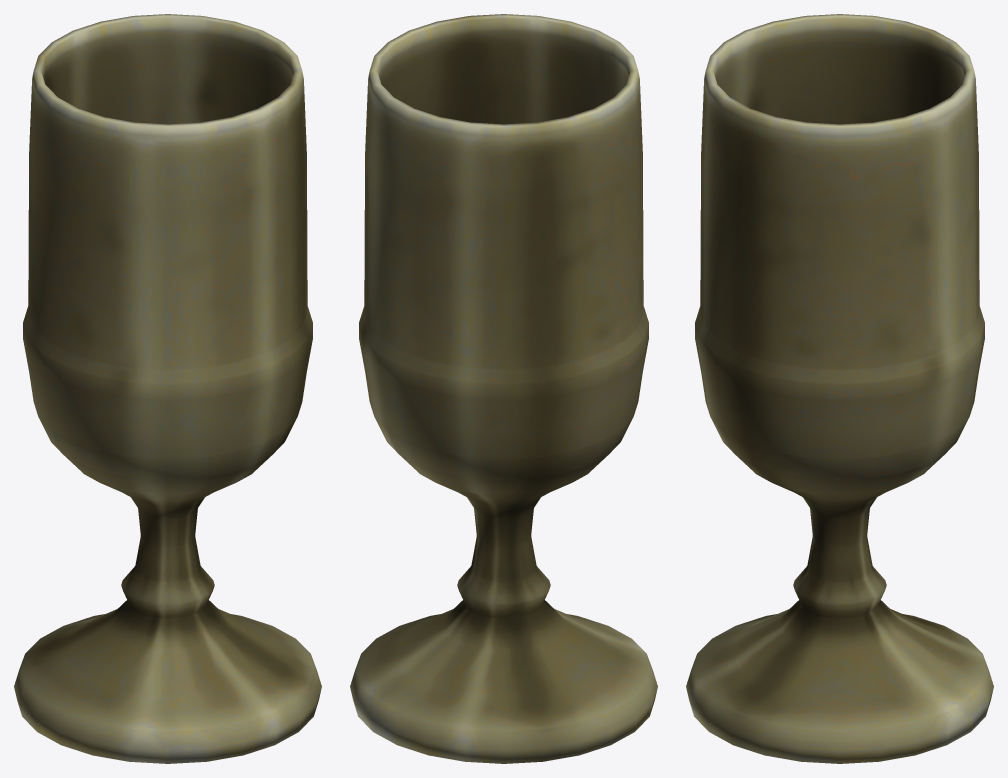
The model's file is mm7_deco_7dec46.glb.
3 views of the same model, side by side, from view 1: azimuth 30°, elevation 25°; view 2: azimuth 150°, elevation 25°; view 3: azimuth 270°, elevation 25° (orthographic).
Visible parts, largest first — view 1: Base; view 2: Base; view 3: Base.
Boxes of the visible parts, x1,y1,x2,y2 form: Base: [14, 14, 321, 763]; Base: [350, 14, 657, 763]; Base: [686, 14, 993, 763].
Size of the model in its own units: 0.2497 by 0.563 by 0.2497.
Materials: 1 (1 with a texture image).
